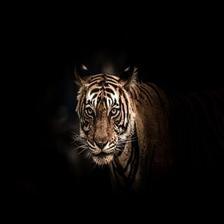tiger: (70, 55, 176, 192)
